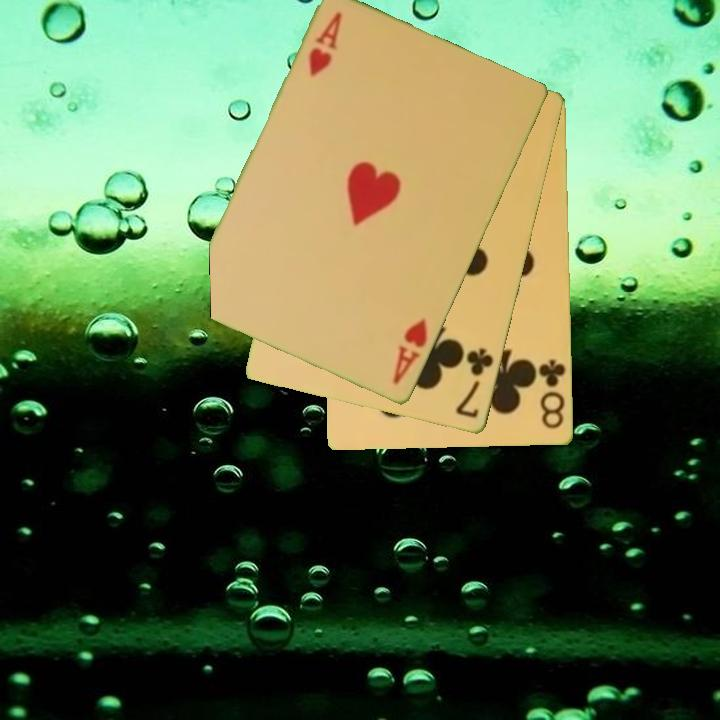7c: (452, 344, 497, 422)
8c: (536, 356, 569, 432)
Ah: (389, 315, 431, 388), (305, 8, 345, 80)
